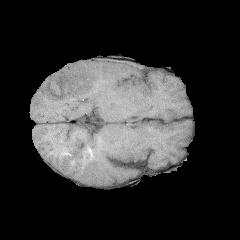glioma: (43, 62, 150, 169)
